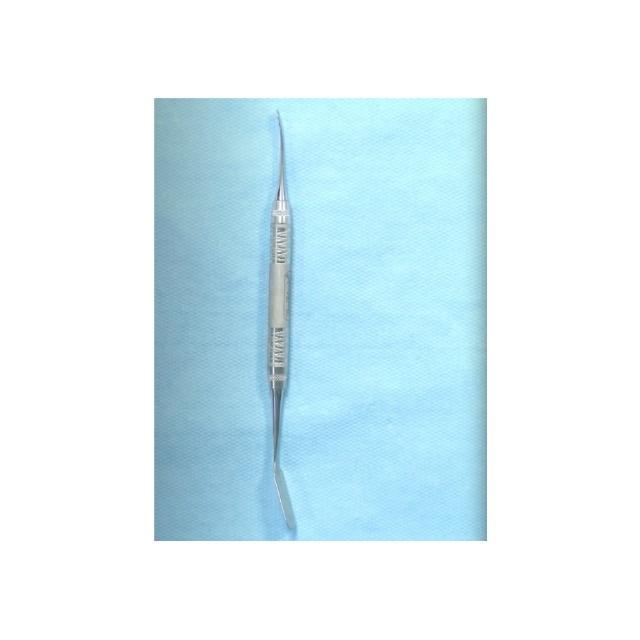elevador: (266, 108, 299, 540)
